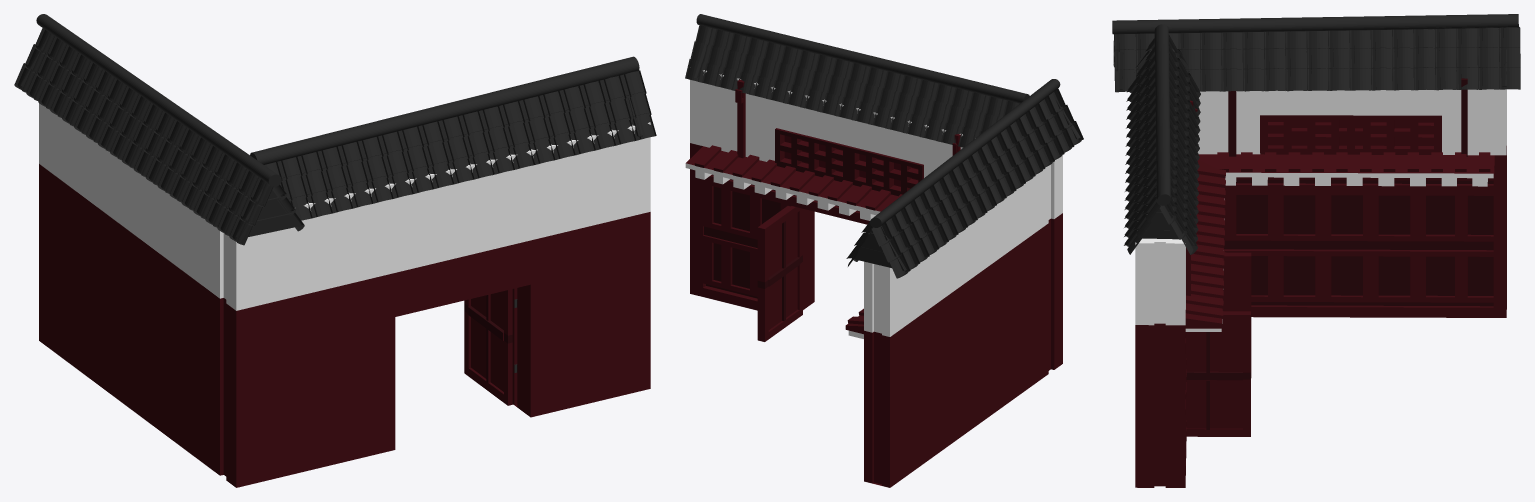
The model's file is build5.glb.
3 renders of one model, left to right at view 1: azimuth 30°, elevation 25°; view 2: azimuth 150°, elevation 25°; view 3: azimuth 270°, elevation 25°, orthographic. The views are drawn at different scales.
Visible parts, largest first — view 1: 門, 瓦, 瓦.001, ドア2, 瓦3.001; view 2: 門, 瓦, 瓦.001, ドア2, 門2, 瓦2.001; view 3: 門, 瓦.001, 瓦, ドア2, 門2, 門2.001, ドア, 瓦2.
Part boxes in pixels (x1,y1,x2,y2): 門: (39, 103, 650, 487); 瓦: (250, 56, 656, 220); 瓦.001: (14, 14, 304, 245); ドア2: (464, 289, 512, 405); 瓦3.001: (236, 189, 301, 238); 門: (685, 70, 1062, 487); 瓦: (685, 14, 1029, 147); 瓦.001: (846, 79, 1083, 278); ドア2: (757, 206, 802, 341); 門2: (694, 145, 902, 210); 瓦2.001: (852, 226, 906, 271); 門: (1135, 78, 1506, 487); 瓦.001: (1112, 14, 1520, 92); 瓦: (1124, 24, 1200, 254); ドア2: (1186, 311, 1250, 436); 門2: (1185, 166, 1225, 318); 門2.001: (1217, 152, 1490, 171); ドア: (1222, 252, 1251, 377); 瓦2: (1128, 205, 1194, 245).
Bounding box in the file's own units: 3.1 × 2.19 × 2.76.
